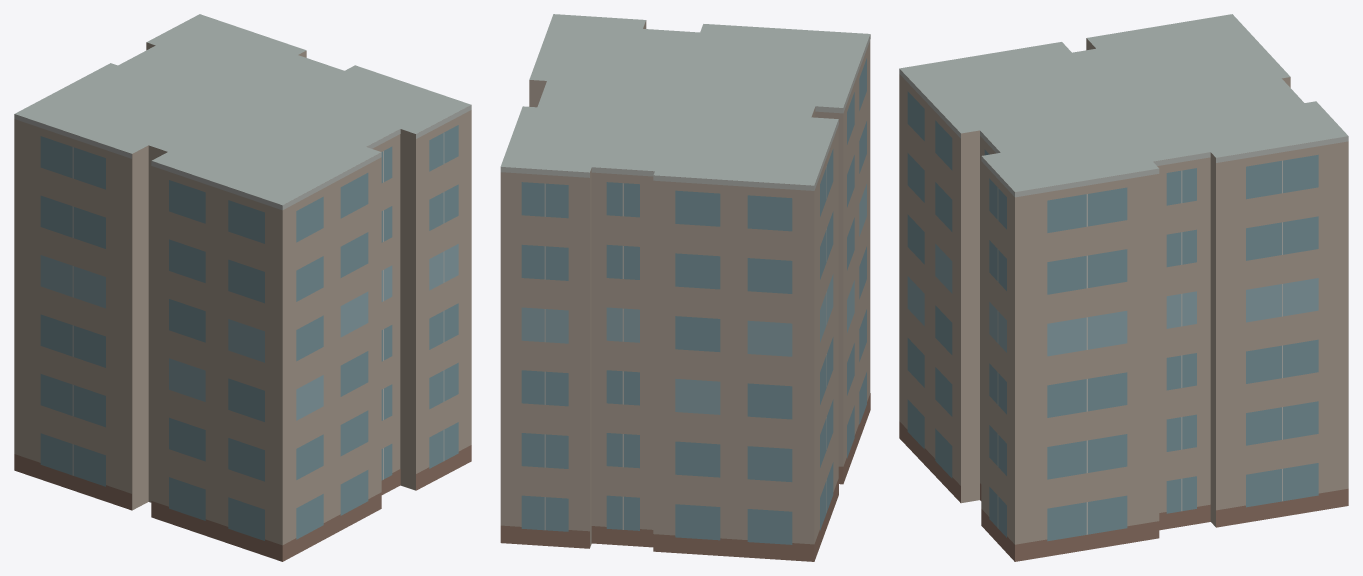
The model's file is survey-upis-32857800.glb.
3 views of the same model, side by side, from view 1: azimuth 30°, elevation 25°; view 2: azimuth 150°, elevation 25°; view 3: azimuth 270°, elevation 25° (orthographic). The views are drawn at different scales.
Visible parts, largest first — view 1: survey-upis-32857800.tmp; view 2: survey-upis-32857800.tmp; view 3: survey-upis-32857800.tmp.
Boxes of the visible parts, x1,y1,x2,y2 form: survey-upis-32857800.tmp: (14,14,471,561); survey-upis-32857800.tmp: (500,14,870,561); survey-upis-32857800.tmp: (899,14,1348,561).
Bounding box in the file's own units: 17.79 × 17.2 × 18.96.
